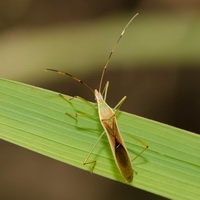insect: (45, 13, 147, 181)
